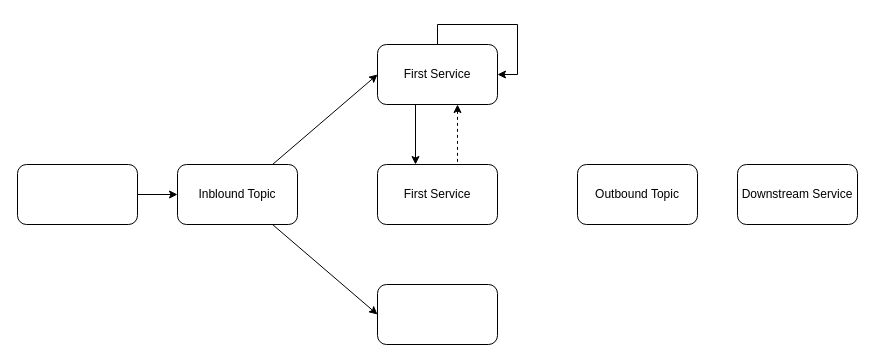
This 875x362 diagram has some shape labels left out. The shapes that lost their labels are listed below. From the top down, each one's centre as x and y in pixels, then its label:
[77,194]: Upstream Service
[437,314]: Second Service
